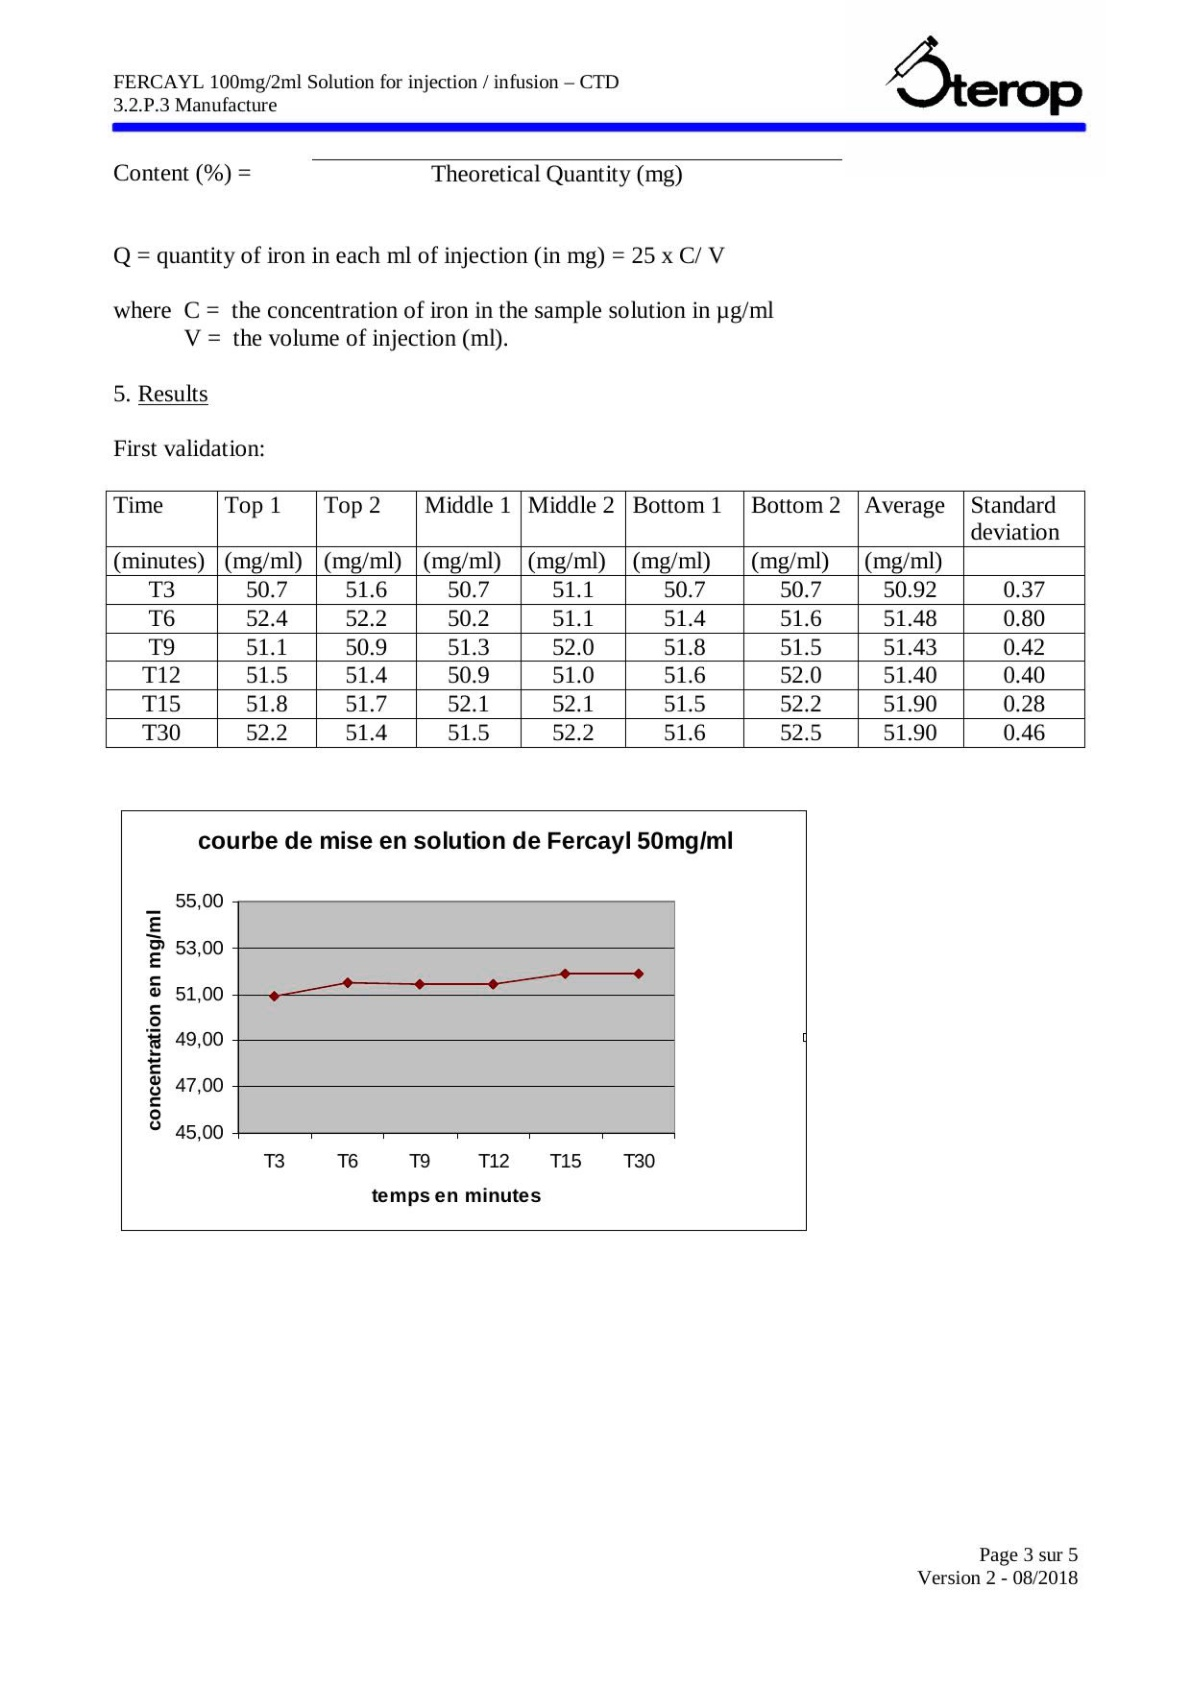full_lined: (104, 489, 1087, 749)
